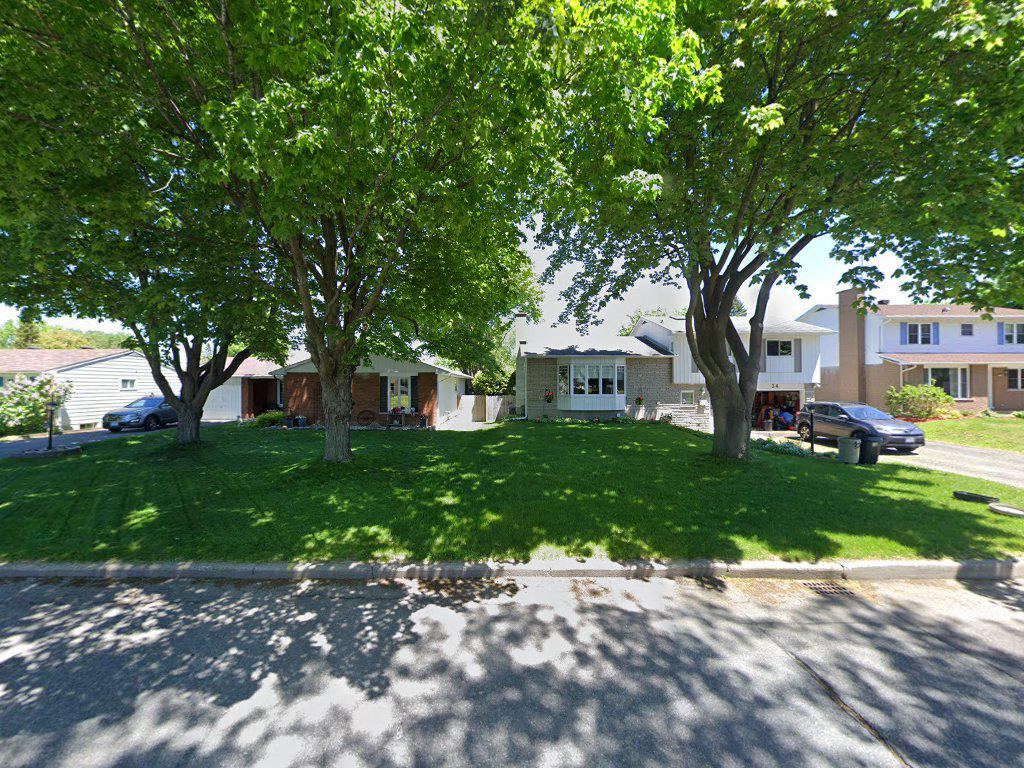trunk: (299, 267, 366, 492), (689, 272, 764, 464)
